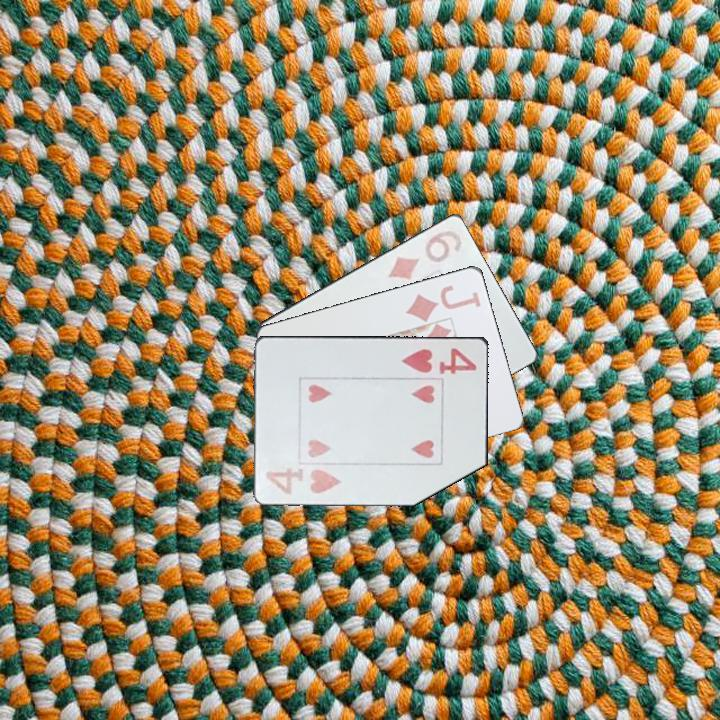4h: (398, 344, 480, 377), (262, 464, 344, 497)
6d: (384, 226, 465, 282)
Jd: (402, 281, 484, 323)
